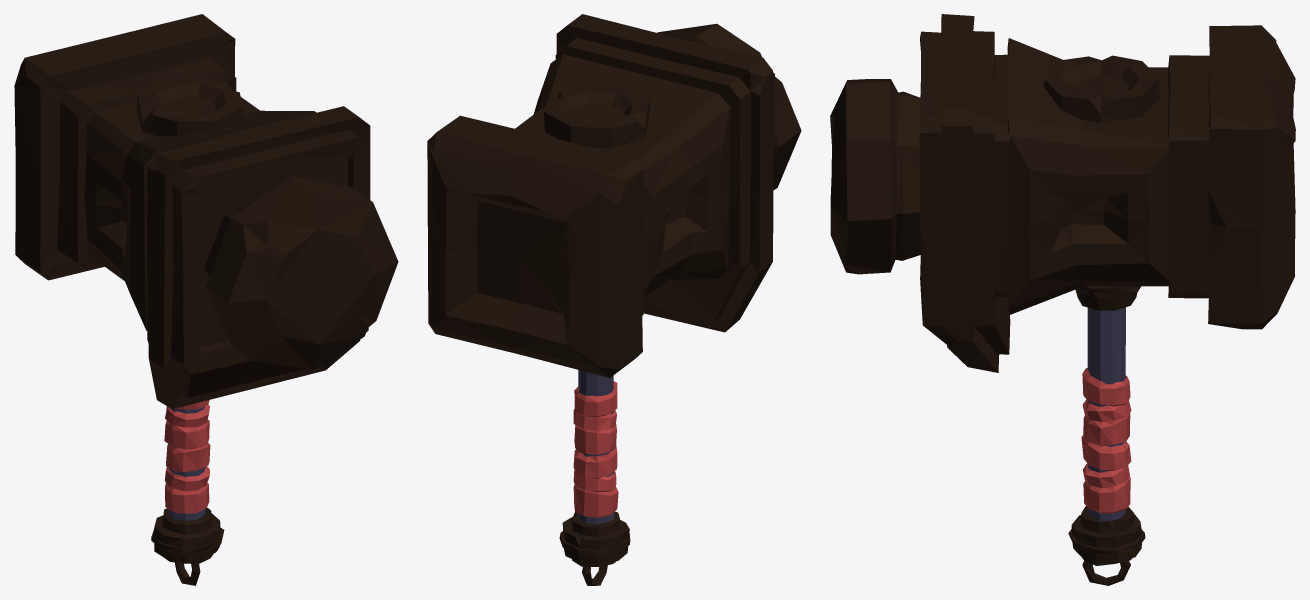
Rendered from SFFA_Hammer_Stylized_003.fbx.
3 renders of one model, left to right at view 1: azimuth 30°, elevation 25°; view 2: azimuth 150°, elevation 25°; view 3: azimuth 270°, elevation 25°, orthographic. The views are drawn at different scales.
Parts seen in each view (by area): view 1: SFFA_Hammer_Stylized_003; view 2: SFFA_Hammer_Stylized_003; view 3: SFFA_Hammer_Stylized_003.
Boxes of the visible parts, bbox=[...] form: SFFA_Hammer_Stylized_003: bbox=[14, 14, 398, 585]; SFFA_Hammer_Stylized_003: bbox=[427, 14, 801, 585]; SFFA_Hammer_Stylized_003: bbox=[830, 14, 1295, 585].
Bounding box in the file's own units: 15.87 × 36.49 × 29.34.
